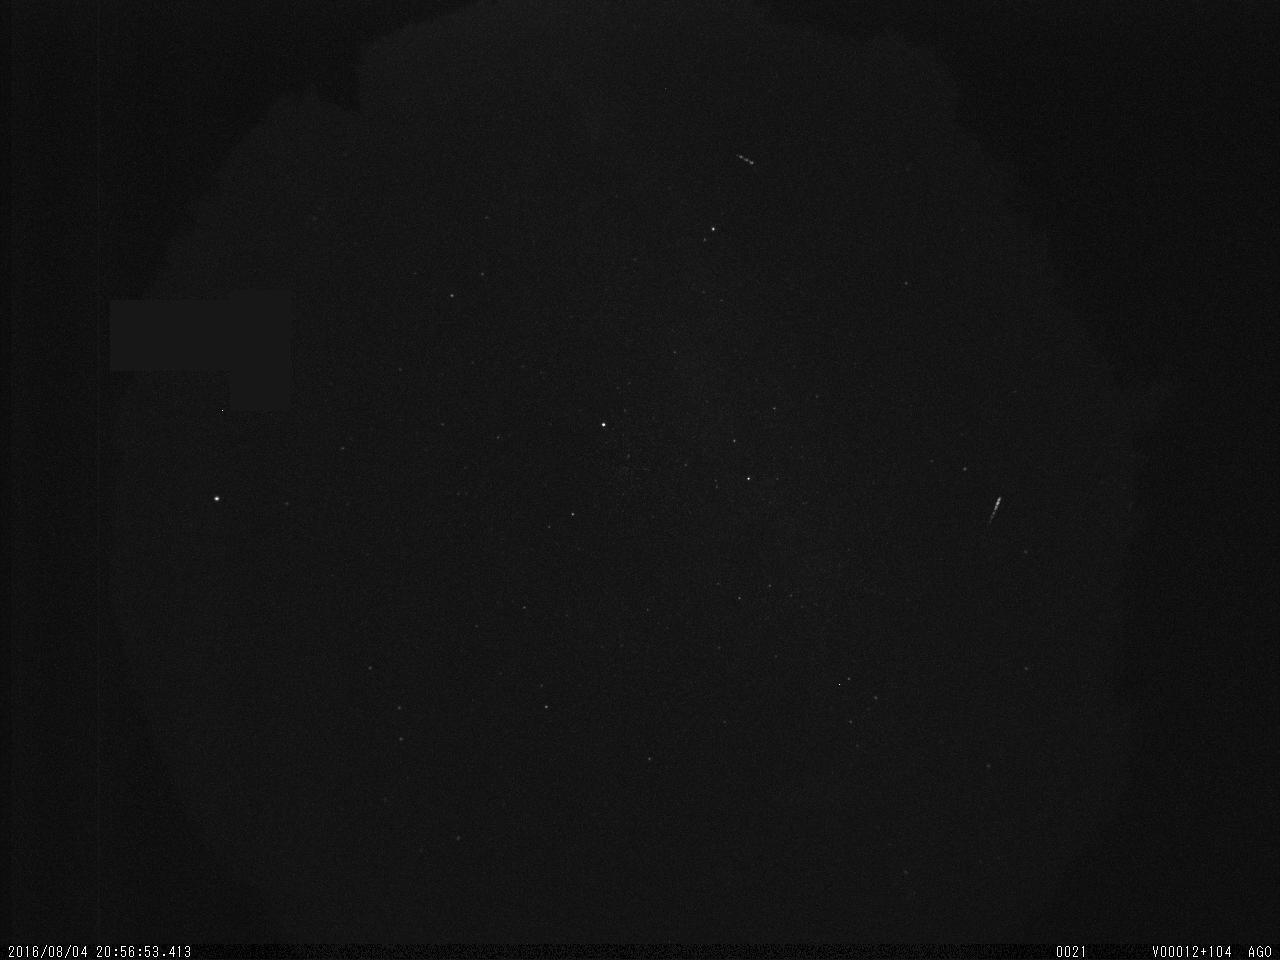meteor: (951, 469, 1076, 545)
